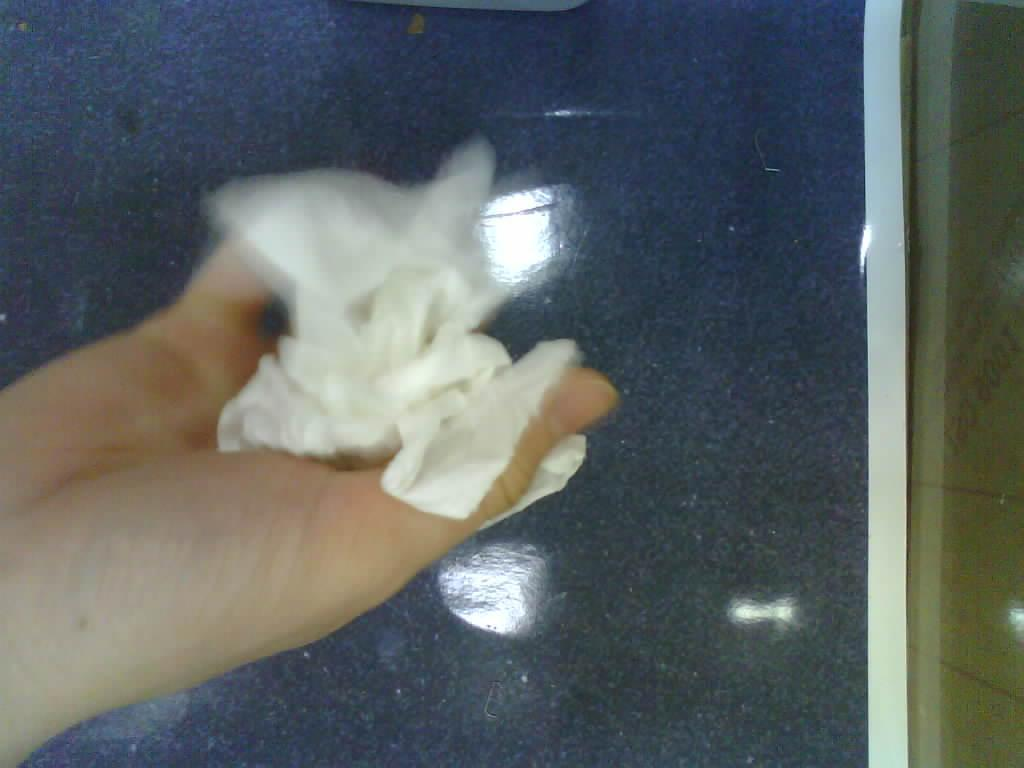paper: (212, 140, 616, 536)
